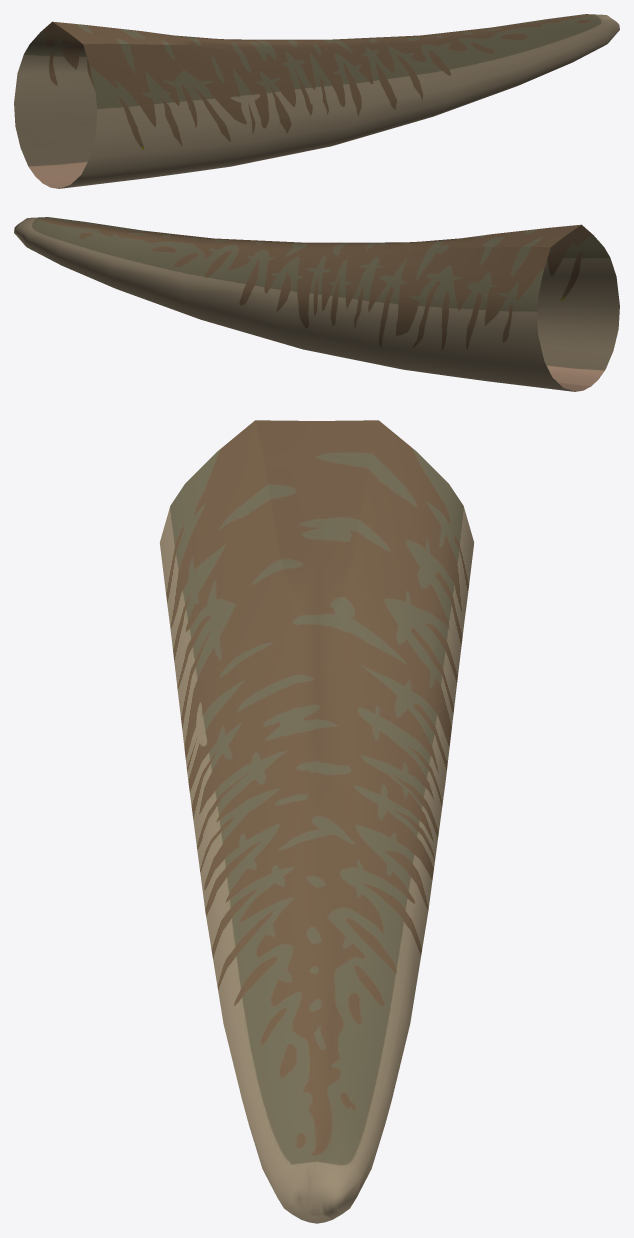
File: Cola2.obj
The picture shows the model from 3 angles, top to bottom: view 1: azimuth 30°, elevation 25°; view 2: azimuth 150°, elevation 25°; view 3: azimuth 270°, elevation 25°; orthographic projection. The views are drawn at different scales.
Parts seen in each view (by area): view 1: Cola:untitled_Meshgroup1; view 2: Cola:untitled_Meshgroup1; view 3: Cola:untitled_Meshgroup1.
Part boxes in pixels (x1,y1,x2,y2): Cola:untitled_Meshgroup1: (14,14,619,188); Cola:untitled_Meshgroup1: (14,217,619,391); Cola:untitled_Meshgroup1: (159,420,474,1223).
Size of the model in its own units: 9.62 by 2.77 by 2.28.
1 material, 1 textured.
